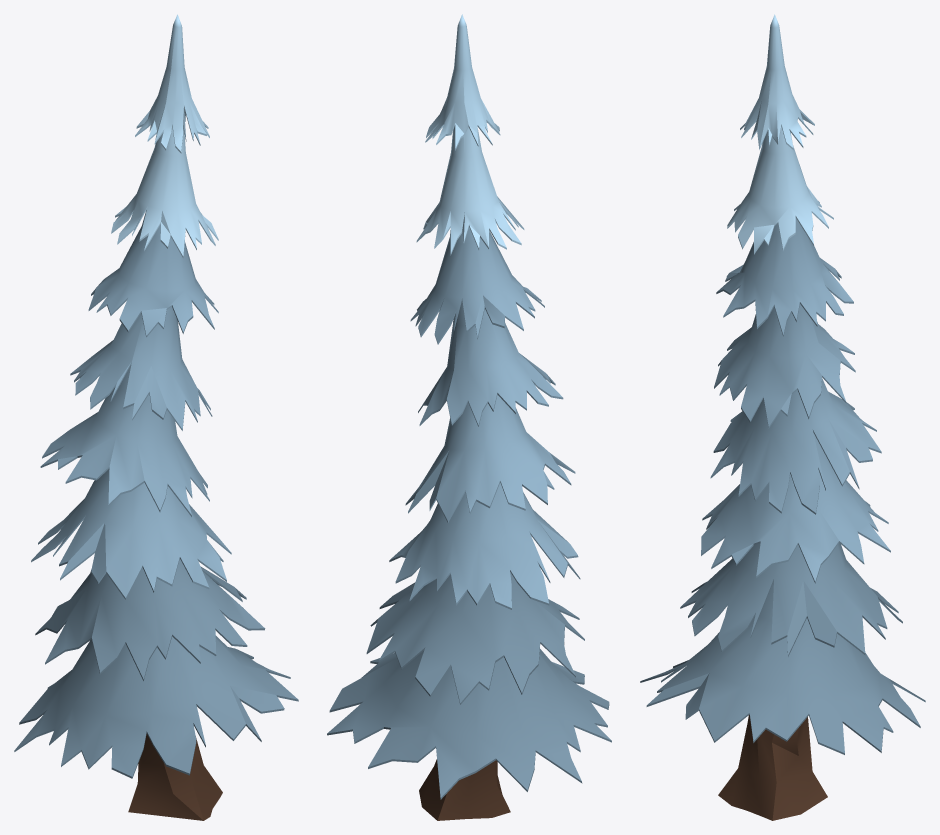
The model's file is MittelBaum.fbx.
The picture shows the model from 3 angles, left to right: view 1: azimuth 30°, elevation 25°; view 2: azimuth 150°, elevation 25°; view 3: azimuth 270°, elevation 25°; orthographic projection.
Parts seen in each view (by area): view 1: Bark; view 2: Bark; view 3: Bark.
Boxes of the visible parts, x1,y1,x2,y2 form: Bark: (14, 14, 298, 820); Bark: (327, 14, 611, 820); Bark: (640, 14, 925, 820).
Size of the model in its own units: 854 by 2642 by 868.
